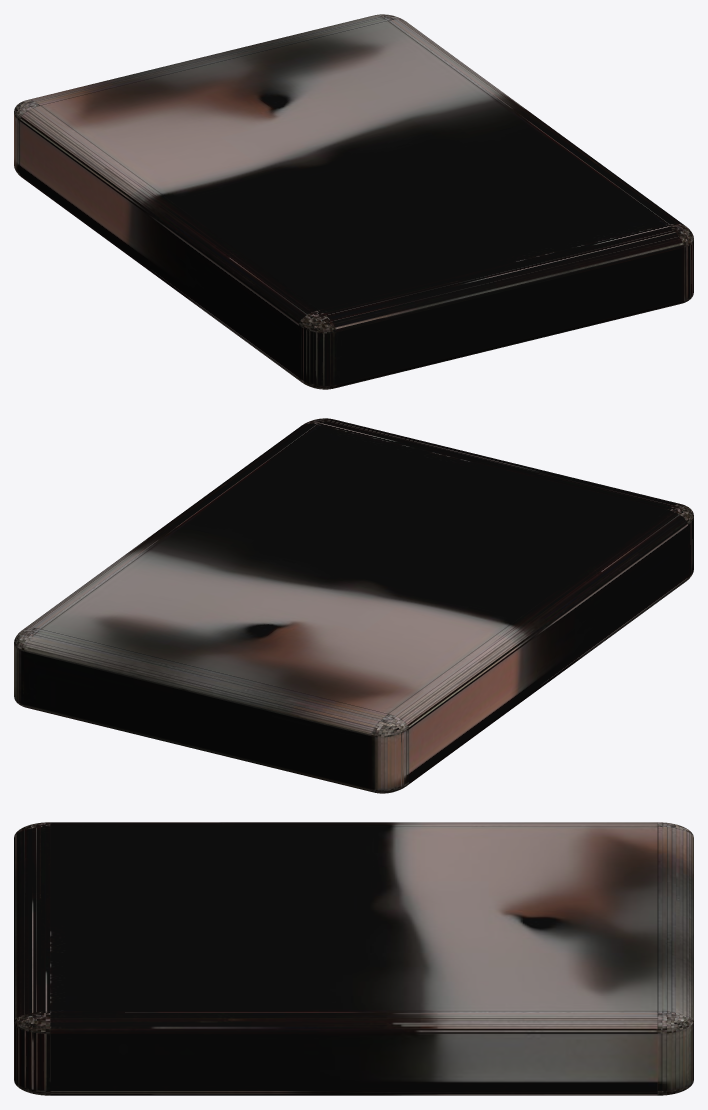
The model's file is matress.glb.
3 renders of one model, top to bottom at view 1: azimuth 30°, elevation 25°; view 2: azimuth 150°, elevation 25°; view 3: azimuth 270°, elevation 25°, orthographic. The views are drawn at different scales.
Visible parts, largest first — view 1: matress; view 2: matress; view 3: matress.
Part boxes in pixels (x1,y1,x2,y2): matress: [14, 14, 693, 389]; matress: [14, 418, 693, 793]; matress: [14, 822, 693, 1095].
Size of the model in its own units: 1.32 by 0.238 by 1.84.
1 material, 1 textured.
